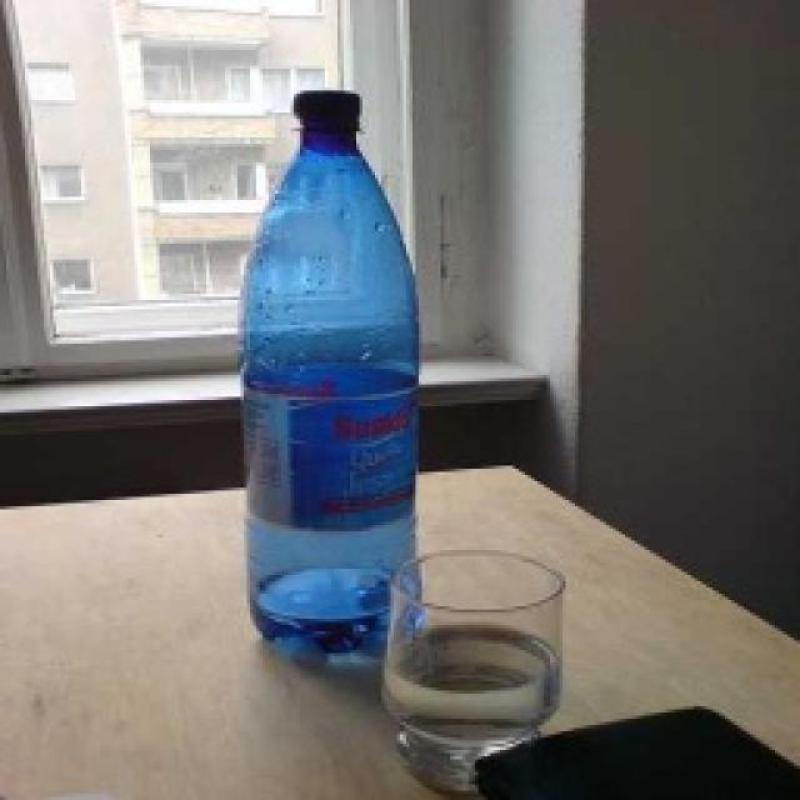botella: (234, 86, 422, 670)
